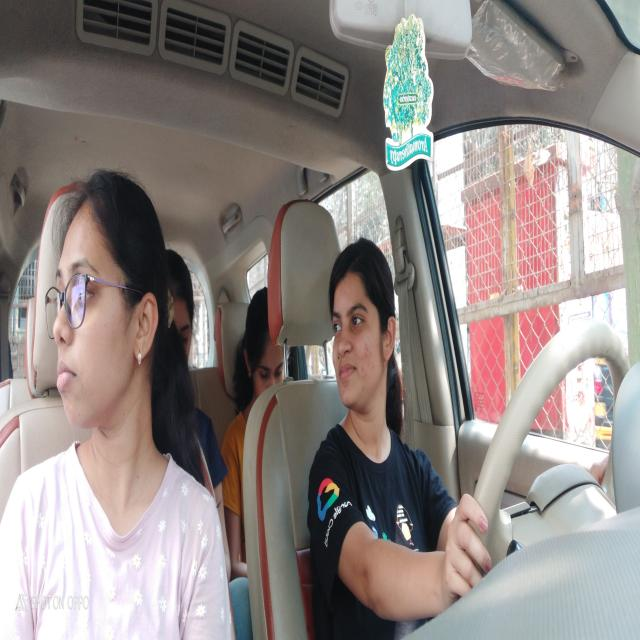LeftRight: (327, 240, 400, 416)
person: (50, 166, 173, 436), (247, 284, 284, 404), (168, 244, 198, 374)
